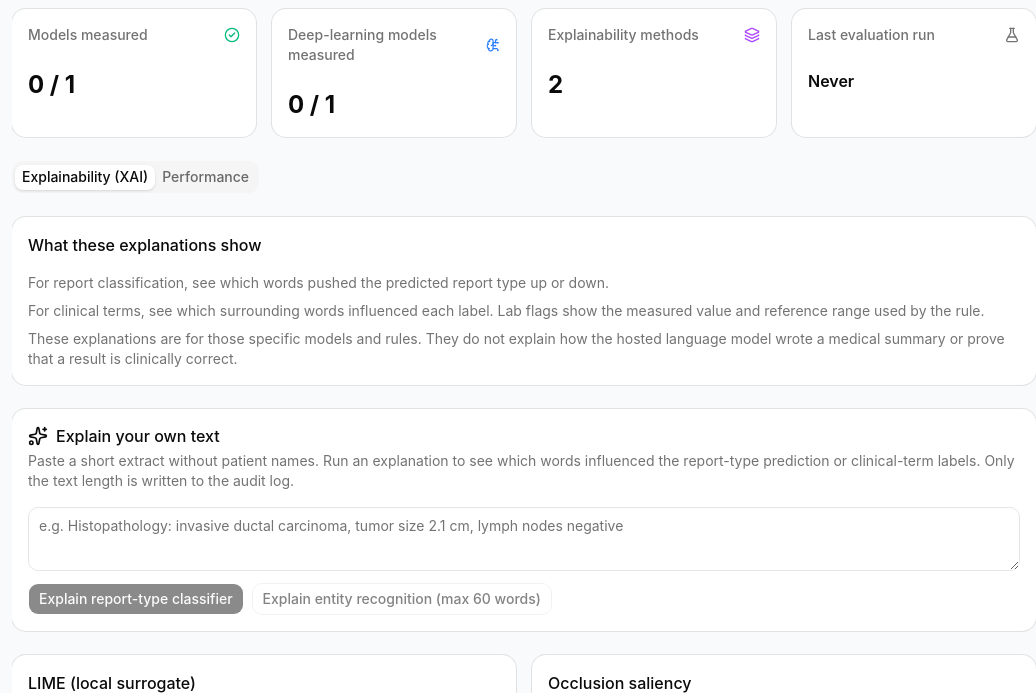
Test case: ModelPerformancePage › reports a failed evaluation with its reason
Click the tab "Performance" at (206, 177), box x1=155 y1=164 x2=256 y2=190
(page scrolled)
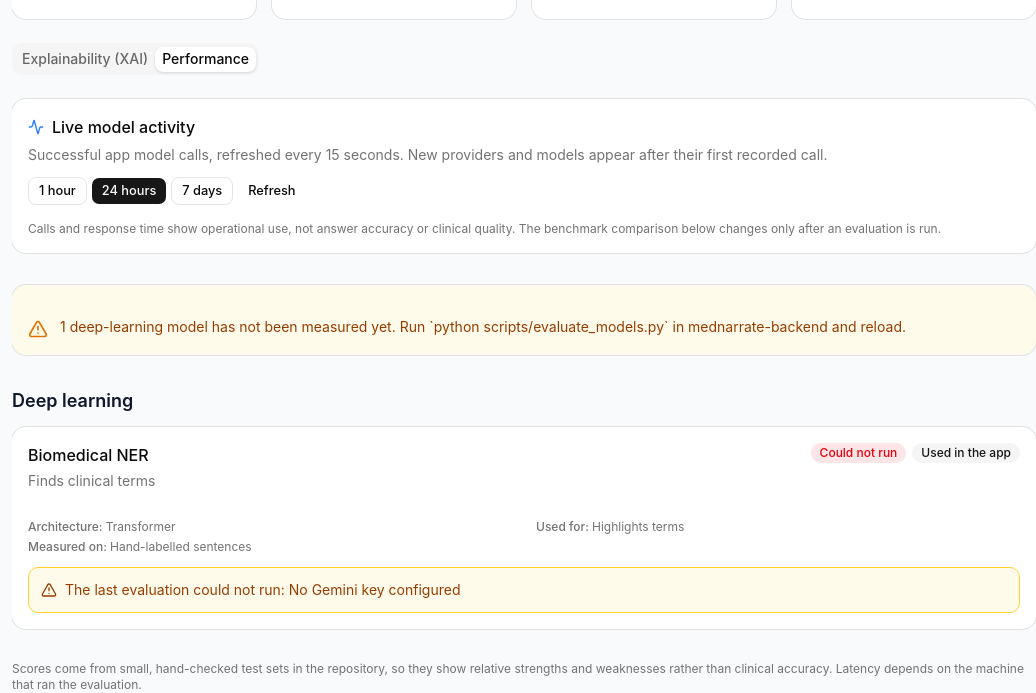
Expected: the text "Could not run" is shown, x1=811 y1=443 x2=906 y2=463
Expected: the text "The last evaluation could not run: No Gemini key configured" is shown, x1=65 y1=580 x2=460 y2=600
